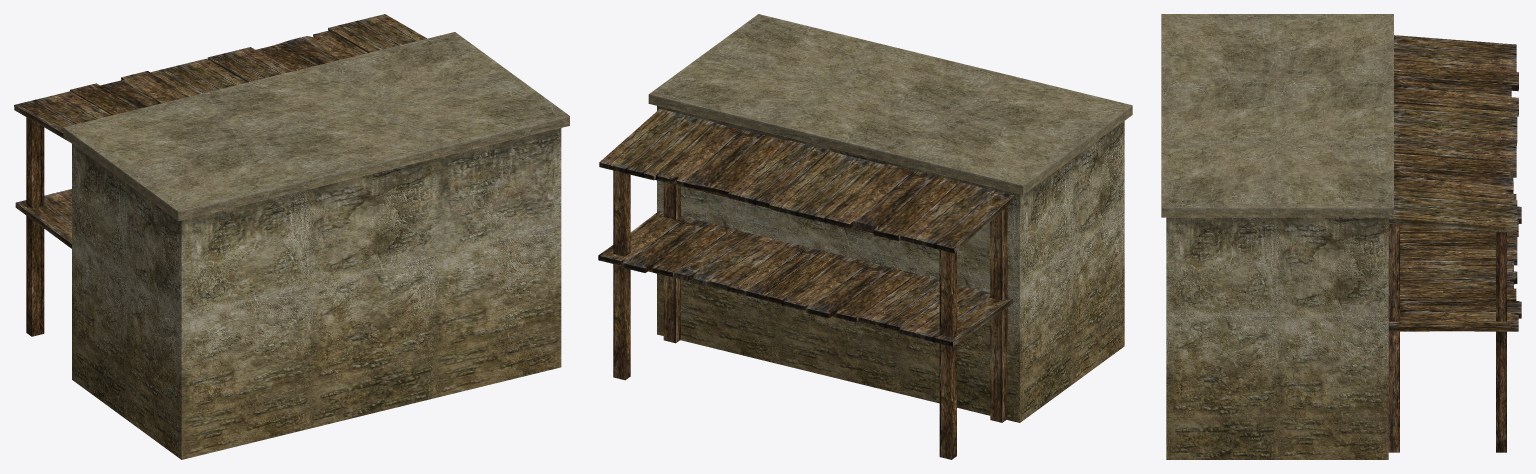
The model's file is hrt_house2.glb.
The picture shows the model from 3 angles, left to right: view 1: azimuth 30°, elevation 25°; view 2: azimuth 150°, elevation 25°; view 3: azimuth 270°, elevation 25°; orthographic projection. The views are drawn at different scales.
Visible parts, largest first — view 1: hrt_house2; view 2: hrt_house2; view 3: hrt_house2.
Part boxes in pixels (x1,y1,x2,y2): hrt_house2: (14, 14, 569, 459); hrt_house2: (598, 14, 1132, 459); hrt_house2: (1161, 14, 1521, 459).
Bounding box in the file's own units: 12.37 × 7.6 × 9.73.
11 materials, 11 textured.
